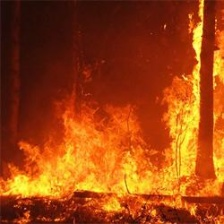fire: (9, 96, 169, 219), (171, 6, 224, 202)
